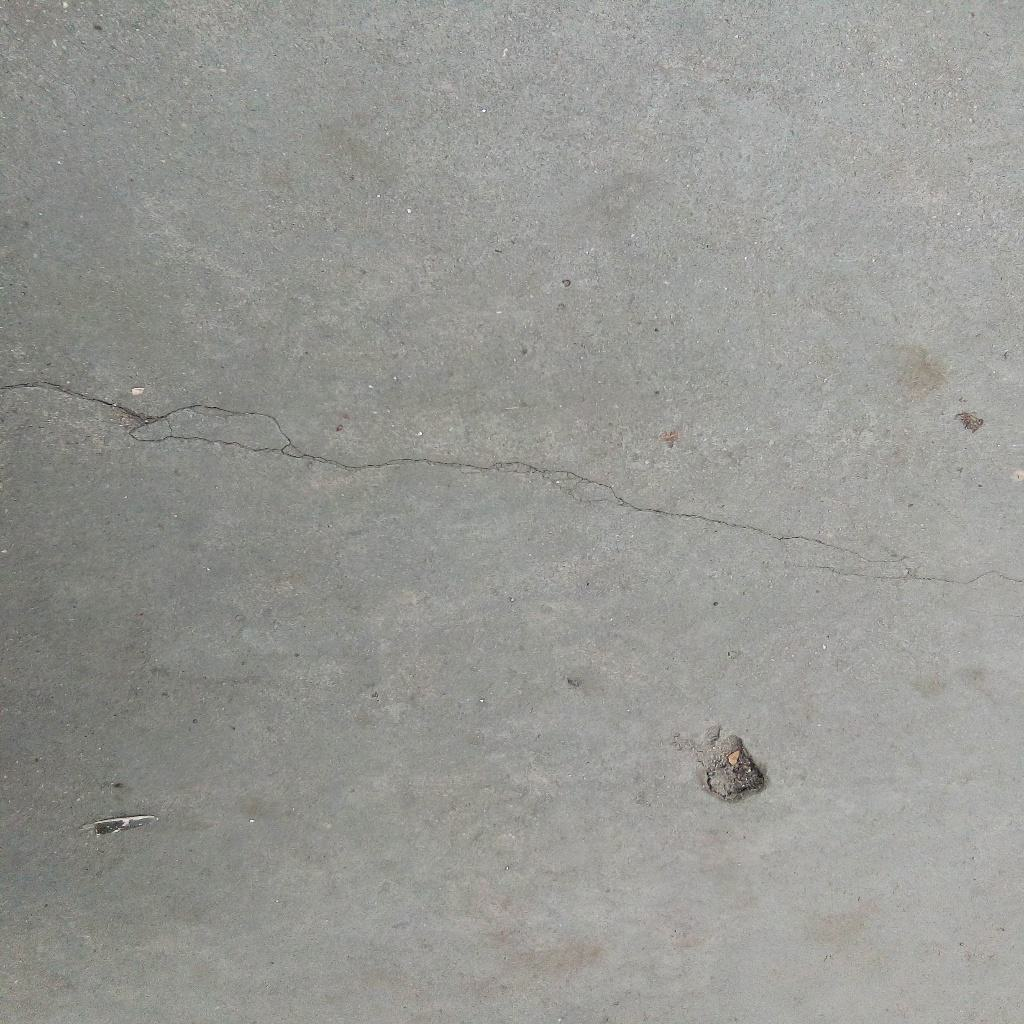Crack: (1, 378, 1024, 588)
Spalling: (669, 724, 767, 806)
